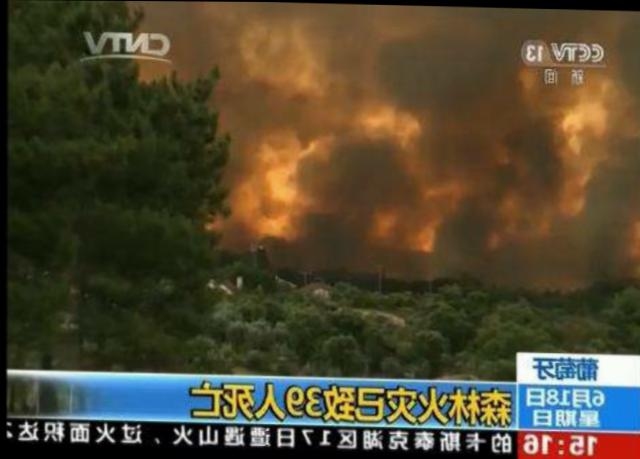fire: (214, 62, 636, 253)
